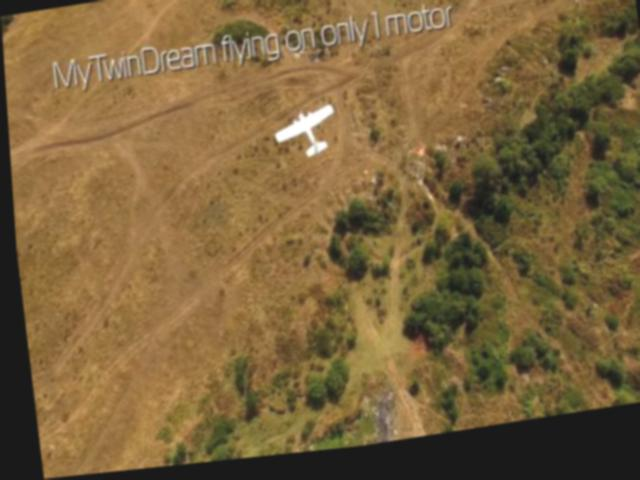uav: (265, 96, 340, 175)
